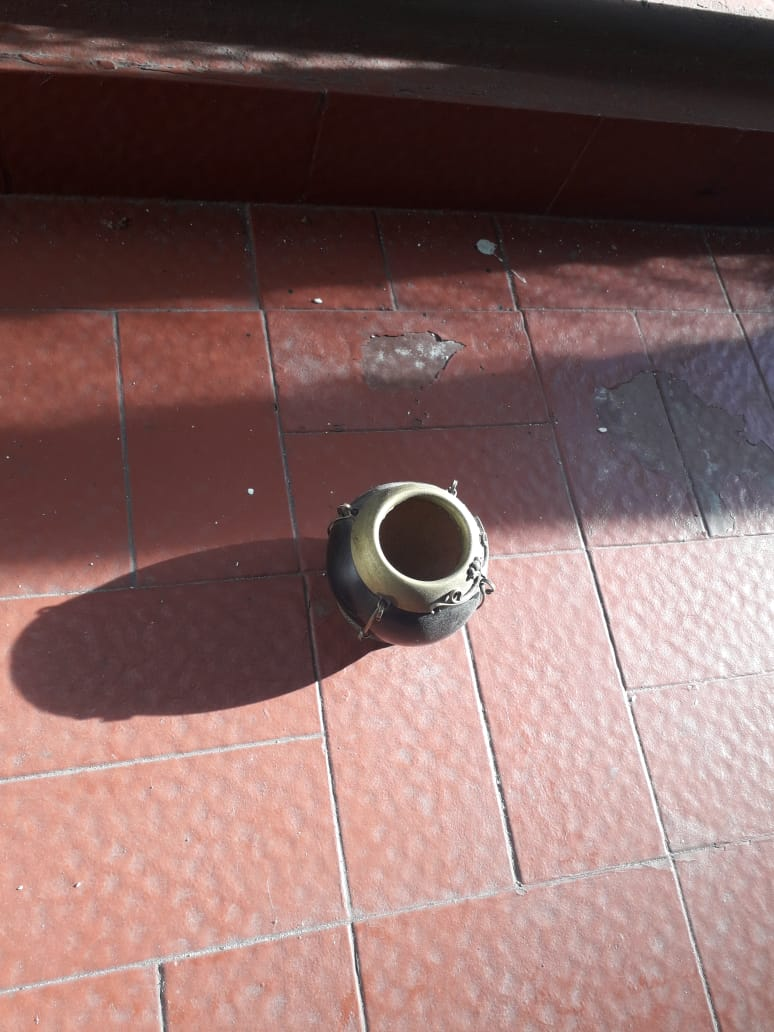calabaza: (320, 477, 494, 648)
mate: (322, 479, 496, 650)
